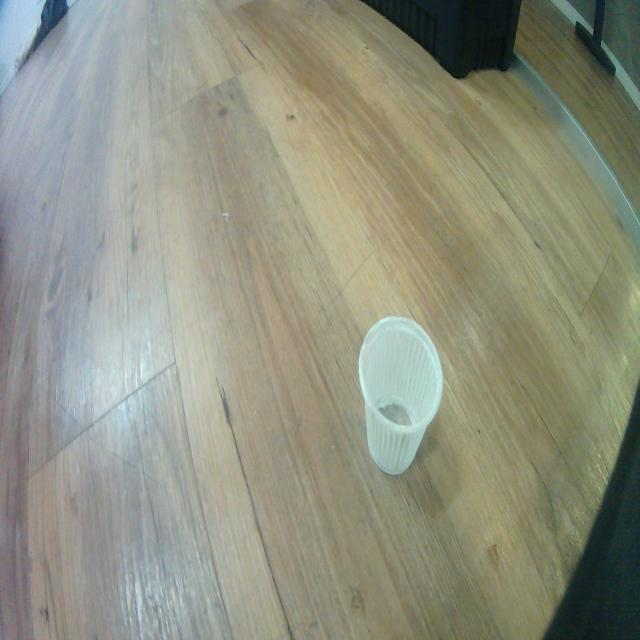planta: (358, 315, 444, 476)
